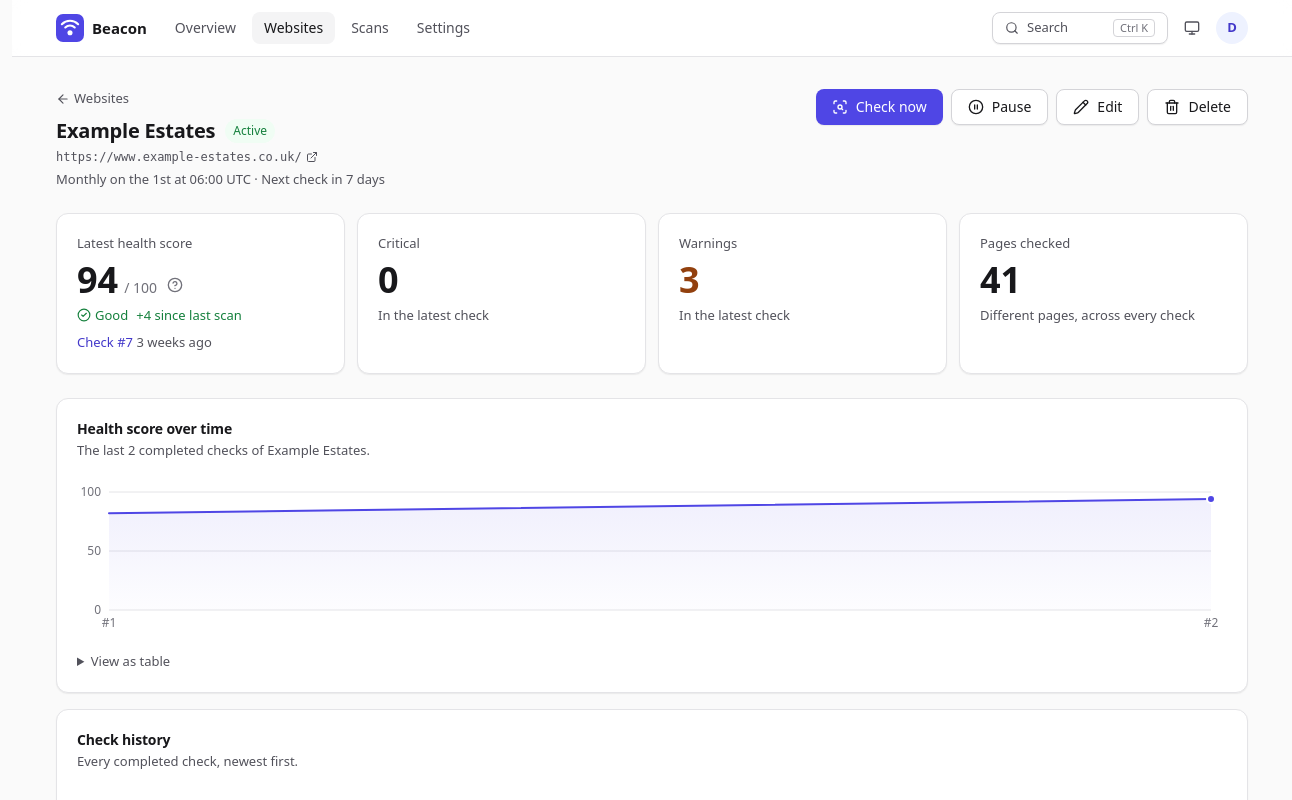
Scenario: website detail › explains why a check could not start
Click the button "Check now" at (879, 107), box [816,89,943,125]
(page scrolled)
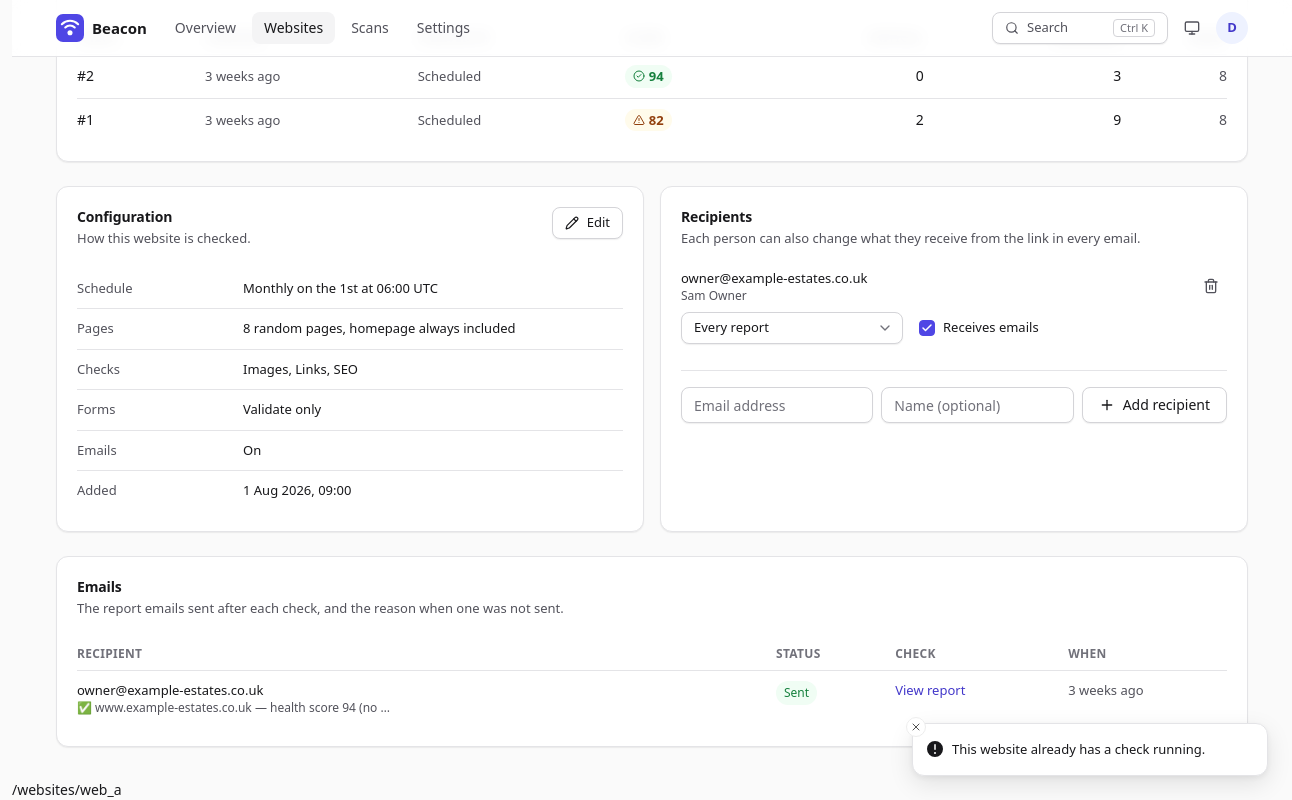
expect the text with test id "location" reads "/websites/web_a": met, box [12,780,122,799]
expect the text "This website already has a check running." is shown: met, box [952,740,1205,759]
